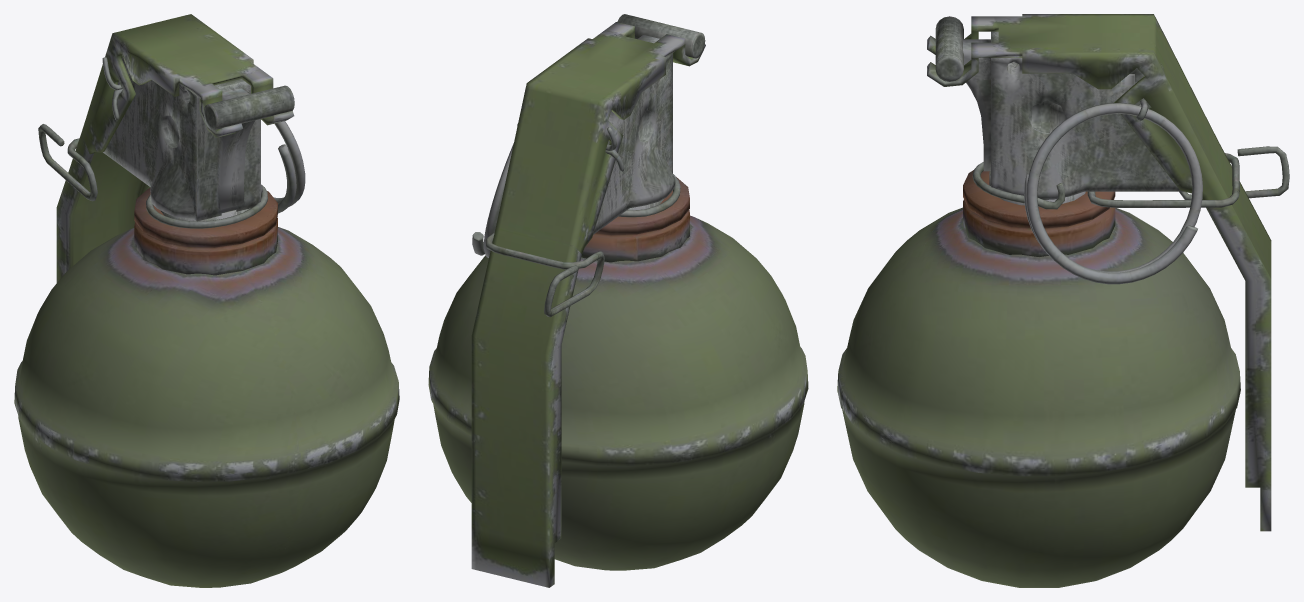
File: zz_frag.glb
3 renders of one model, left to right at view 1: azimuth 30°, elevation 25°; view 2: azimuth 150°, elevation 25°; view 3: azimuth 270°, elevation 25°, orthographic. The views are drawn at different scales.
Parts seen in each view (by area): view 1: weapon; view 2: weapon; view 3: weapon.
Part boxes in pixels (x1=…): weapon: x1=14, y1=14, x2=399, y2=587; weapon: x1=428, y1=14, x2=808, y2=587; weapon: x1=837, y1=14, x2=1289, y2=587.
Size of the model in its own units: 0.0753 by 0.11 by 0.0844.
1 material, 1 textured.
